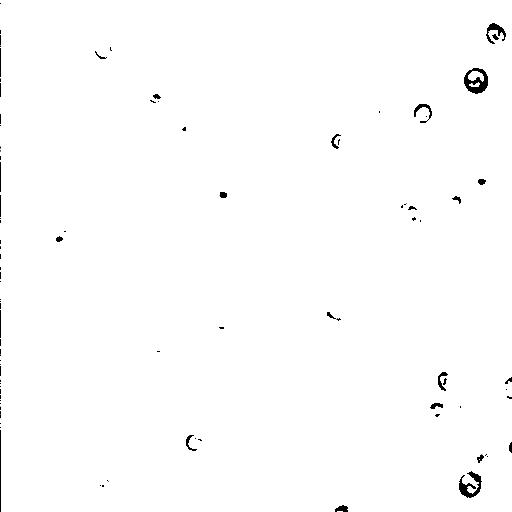micro-algae: (25, 201, 110, 283), (0, 185, 57, 267), (2, 22, 63, 83), (375, 195, 435, 255), (47, 0, 109, 45), (371, 9, 415, 54), (0, 85, 35, 121), (129, 0, 172, 29), (68, 213, 103, 245), (319, 296, 350, 327), (359, 93, 391, 121), (469, 443, 498, 473), (461, 65, 489, 95), (467, 167, 495, 195), (205, 179, 234, 205), (457, 471, 483, 498), (119, 336, 144, 363), (168, 114, 194, 139), (140, 348, 166, 373), (401, 205, 426, 231), (90, 477, 113, 498), (412, 101, 433, 123), (435, 370, 457, 391), (92, 39, 113, 60), (51, 229, 73, 249), (486, 23, 505, 44), (184, 433, 204, 450), (329, 134, 349, 149), (427, 400, 443, 417), (446, 195, 461, 211), (332, 501, 352, 511), (503, 371, 511, 396)
